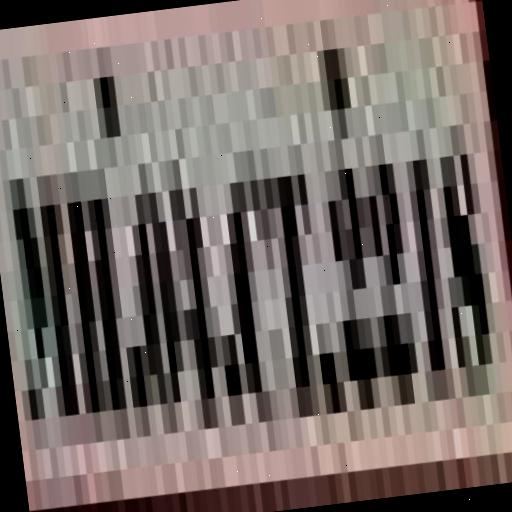number plate: (0, 3, 510, 511)
